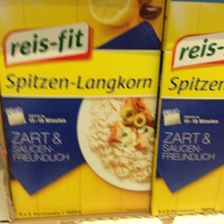rice: (1, 1, 165, 218), (150, 1, 224, 216)
